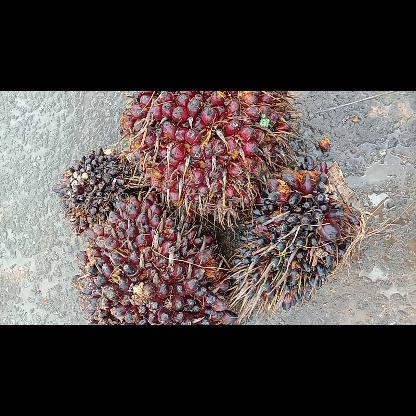Kurang masak: (77, 192, 238, 324)
TBS abnormal: (233, 156, 360, 309), (52, 148, 136, 232)
TBS masak: (120, 93, 292, 217)
